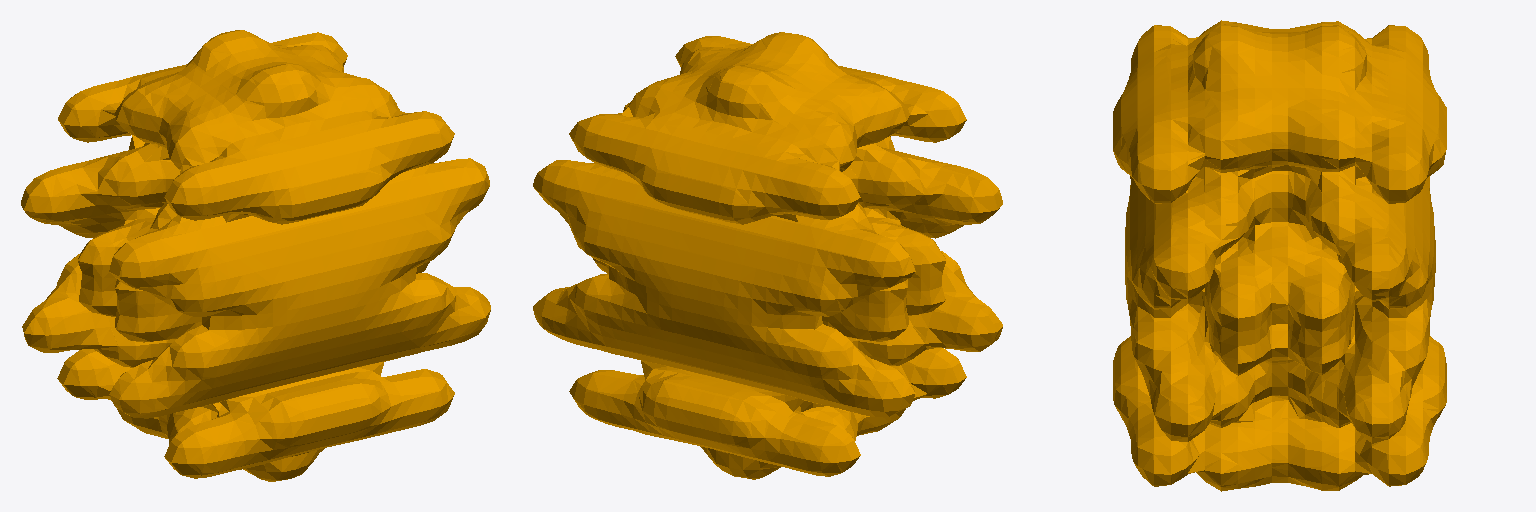
robot.urdf — I22_3:
<?xml version="1.0"?>
<robot name="I22_3">
  <link name="base_link">
    <inertial>
      <mass value="0.08929" />
      <origin xyz="0 0 0" />
      <inertia  ixx="0.0002" ixy="0.0"  ixz="0.0"  iyy="0.0002"  iyz="0.0" izz="0.0002" />
    </inertial>
    <visual>
      <geometry>
        <mesh filename="../../../meshes/egad/train/I22_3.obj" />
      </geometry>
    </visual>
    <collision>
      <geometry>
        <mesh filename="../../../meshes/egad/train/I22_3.obj" />
      </geometry>
    </collision>
  </link>
</robot>

--- Facts derived from the render (not from the file) ---
3 views of the same robot in one strip: view 1: azimuth 30°, elevation 25°; view 2: azimuth 150°, elevation 25°; view 3: azimuth 270°, elevation 25° (orthographic).
Model I22_3 with 1 links and 0 joints (none), rooted at base_link, posed all joints at 0.
Links seen in each view (by area): view 1: base_link; view 2: base_link; view 3: base_link.
Boxes of the visible links, bbox=[...] form: base_link: bbox=[21, 30, 490, 481]; base_link: bbox=[533, 32, 1002, 479]; base_link: bbox=[1113, 20, 1446, 491].
Bounding box of the posed robot: 0.075 × 0.052 × 0.0766 m (x, y, z).
Meshes: 1 distinct files referenced, 1 mesh visuals loaded (1 OBJ).